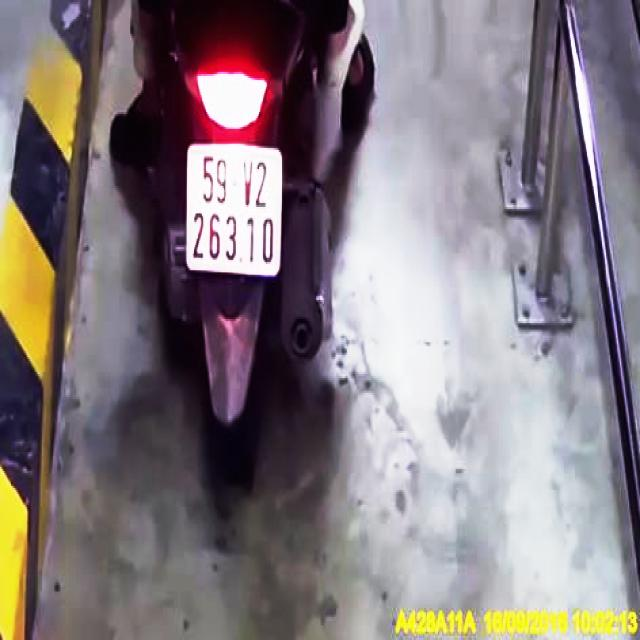license_plate: (185, 145, 283, 276)
